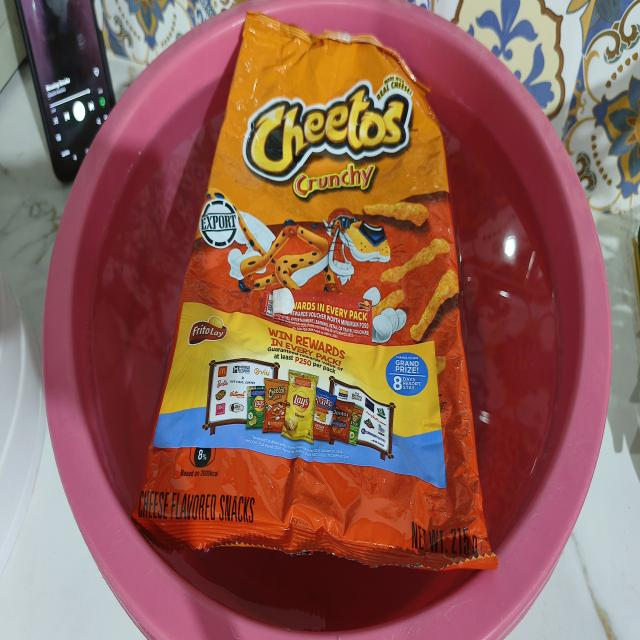Plastic Wrapper: (133, 12, 498, 570)
